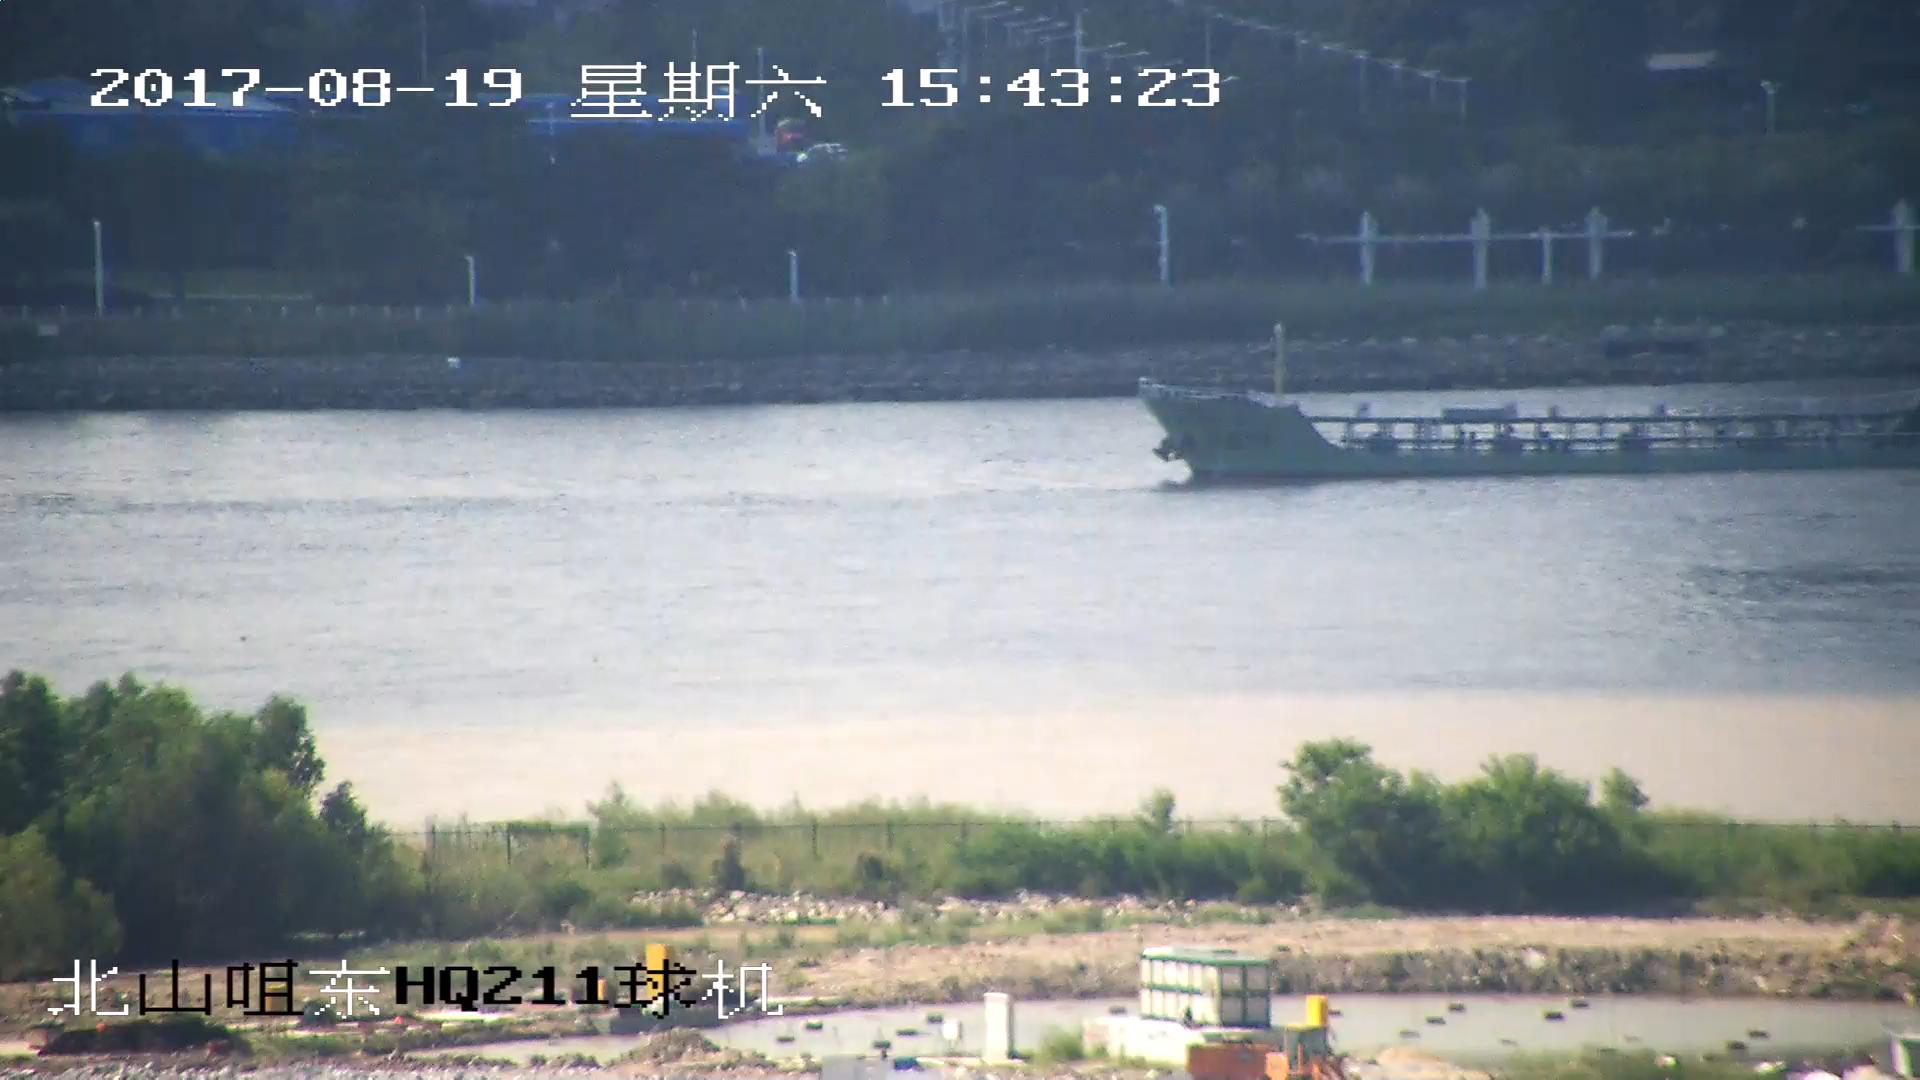general cargo ship: (1145, 326, 1920, 483)
